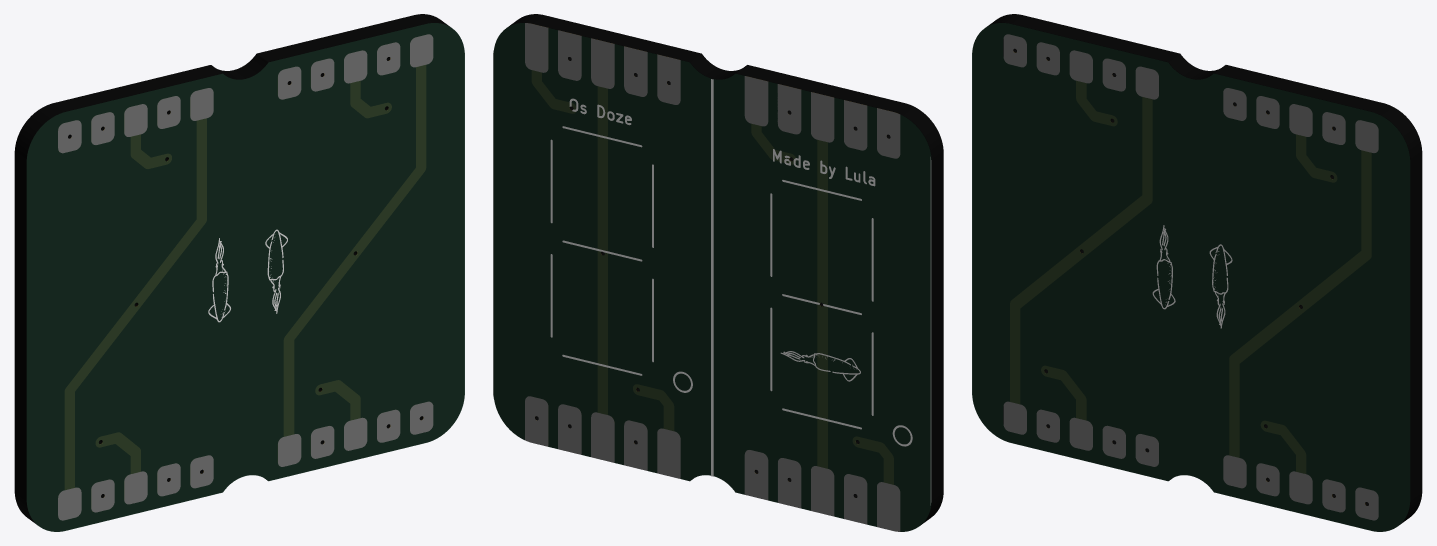
The model's file is display-board-big-adaptor.glb.
The picture shows the model from 3 angles, left to right: view 1: azimuth 30°, elevation 25°; view 2: azimuth 150°, elevation 25°; view 3: azimuth 330°, elevation 25°; orthographic projection.
Parts seen in each view (by area): view 1: SHAPE_5, SHAPE_1, SHAPE_4, SHAPE_3, SHAPE_9; view 2: SHAPE_5, SHAPE_1, SHAPE_4, SHAPE_3, SHAPE_9; view 3: SHAPE_5, SHAPE_1, SHAPE_4, SHAPE_3, SHAPE_9.
Boxes of the visible parts, <box> form: SHAPE_5: <box>26,23,464,531</box>; SHAPE_1: <box>14,14,463,531</box>; SHAPE_4: <box>58,34,433,520</box>; SHAPE_3: <box>65,58,425,489</box>; SHAPE_9: <box>208,229,287,322</box>; SHAPE_5: <box>493,23,931,531</box>; SHAPE_1: <box>494,14,943,531</box>; SHAPE_4: <box>525,23,900,531</box>; SHAPE_3: <box>532,26,893,484</box>; SHAPE_9: <box>493,50,931,505</box>; SHAPE_5: <box>972,23,1410,531</box>; SHAPE_1: <box>973,14,1422,531</box>; SHAPE_4: <box>1003,34,1378,520</box>; SHAPE_3: <box>1010,51,1370,504</box>; SHAPE_9: <box>1152,225,1232,328</box>.
Size of the model in its own units: 0.0337 by 0.0308 by 0.00175.
